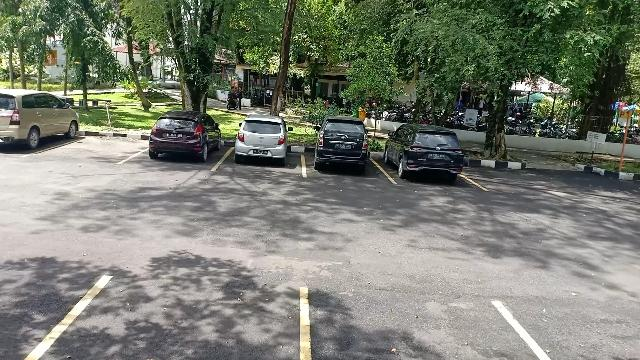empty: (52, 126, 144, 164)
occupied: (381, 134, 469, 186), (224, 129, 306, 177), (138, 126, 224, 170), (0, 111, 80, 155), (302, 136, 380, 180)
